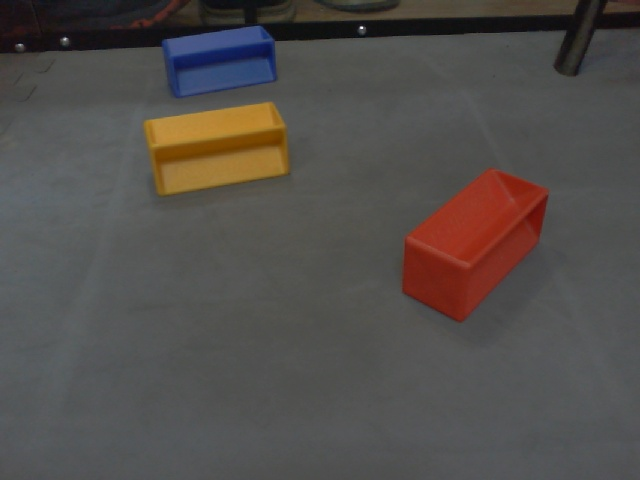BlueSample: (160, 25, 280, 98)
RedSample: (402, 167, 550, 326)
YellowSample: (142, 98, 291, 199)
